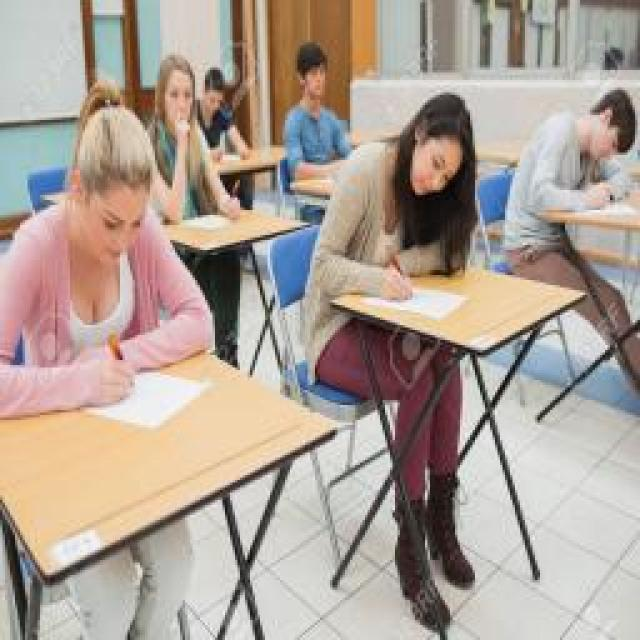phone: (0, 79, 212, 402), (305, 85, 480, 327)
